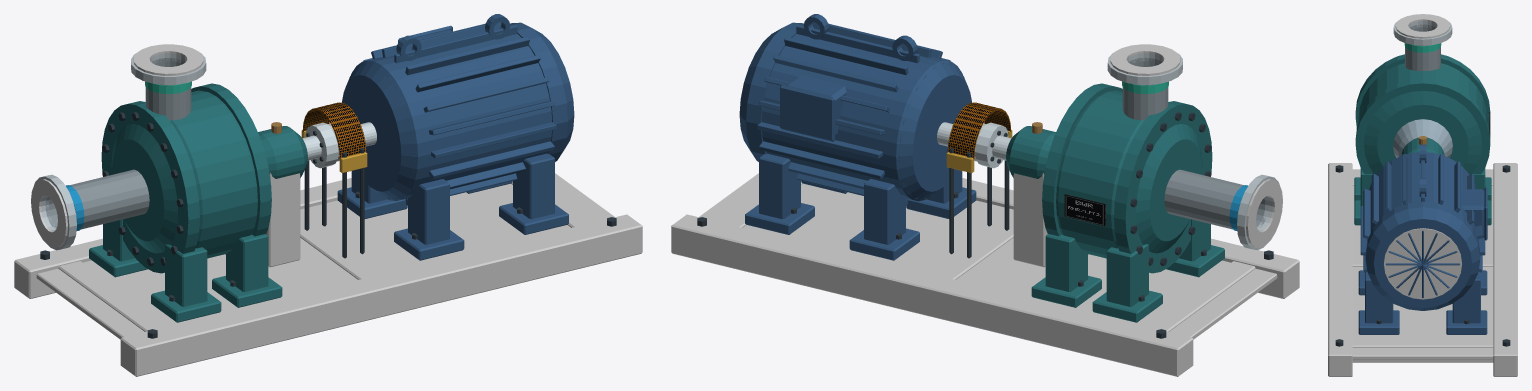
The model's file is compact.obj.
3 views of the same model, side by side, from view 1: azimuth 30°, elevation 25°; view 2: azimuth 150°, elevation 25°; view 3: azimuth 270°, elevation 25° (orthographic). The views are drawn at different scales.
Size of the model in its own units: 0.9 by 0.4046 by 0.3567.
